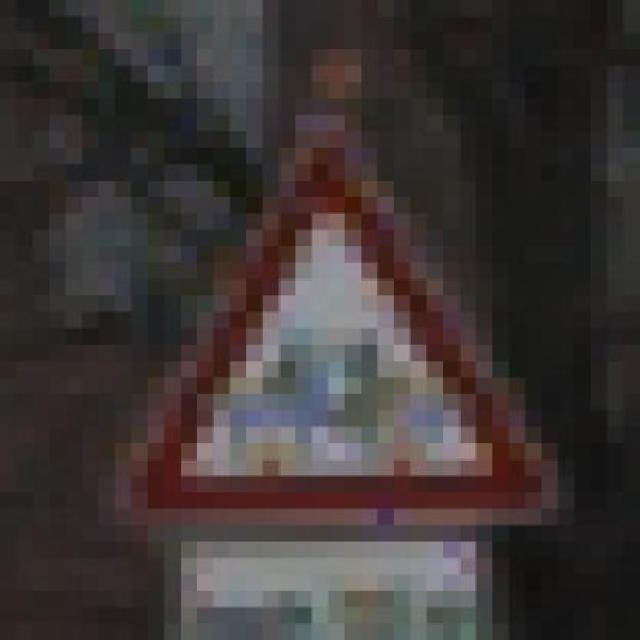CYCLE ROUTE AHEAD WARNING: (98, 115, 574, 542)
